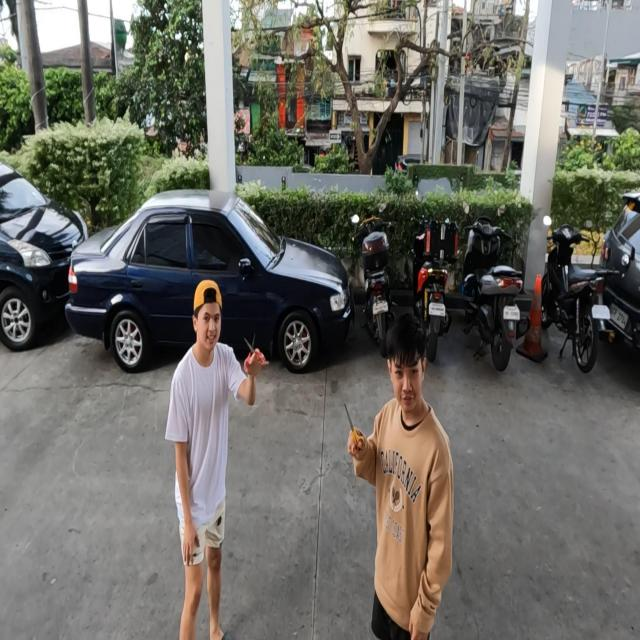scissor: (344, 403, 366, 454), (244, 333, 265, 373)
